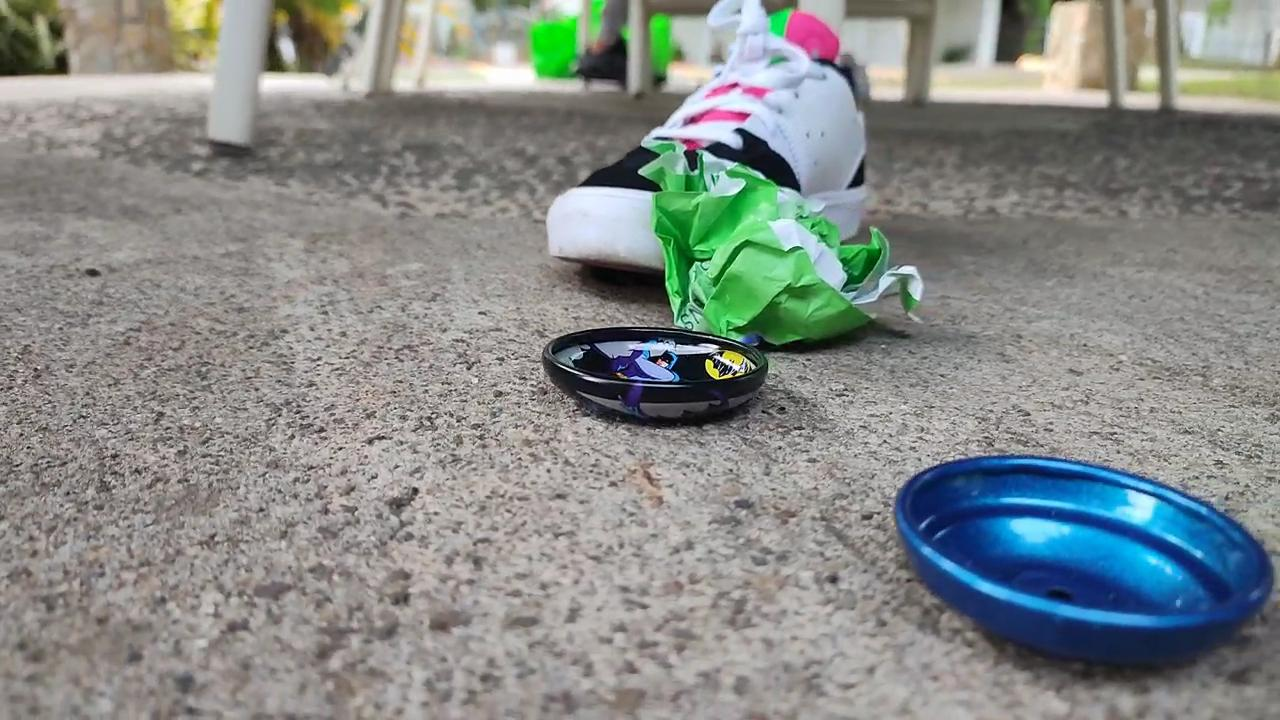Paper: (639, 140, 933, 346)
